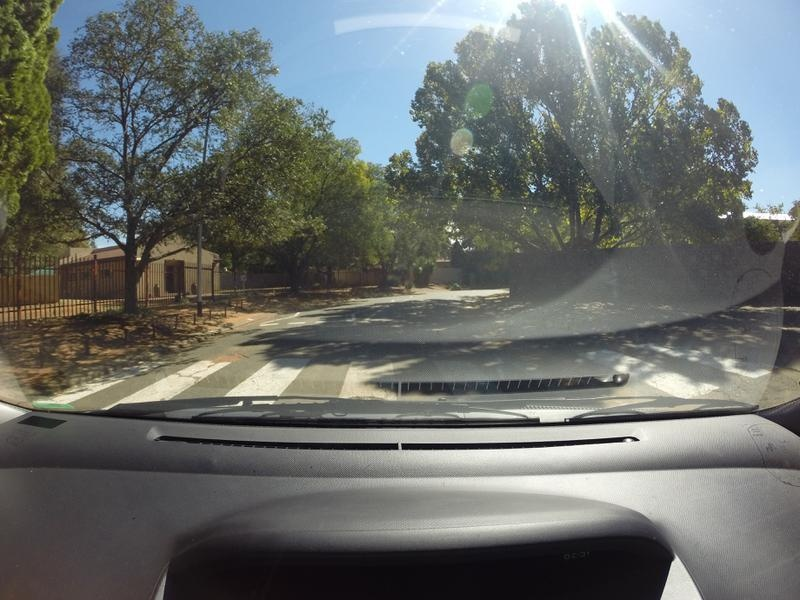pothole: (213, 350, 246, 367)
